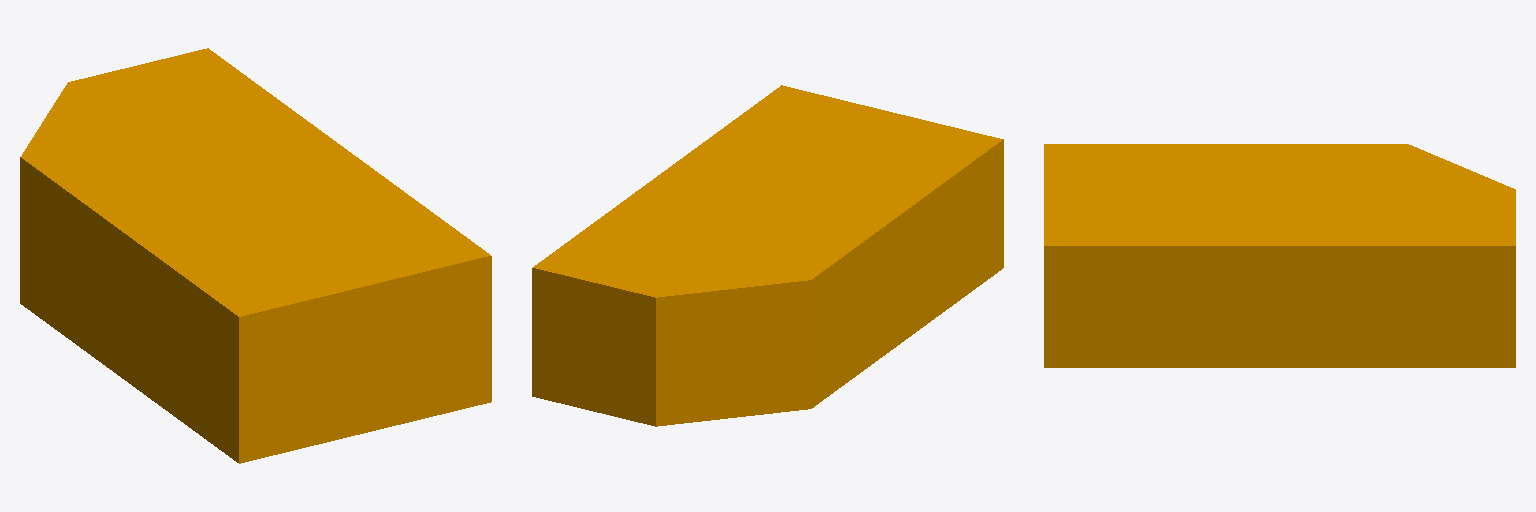
URDF robot description (oil_bottle_simple.off):
<?xml version="1.0"?>
<robot name="oil_bottle_simple.off">
	<link name="oil_bottle_simple.off">
		<inertial>
			<!--origin xyz="0 0 0" rpy="0 0 0" /-->
			<mass value="0.5" />
			<!--inertia ixx="0.000360" ixy="0" ixz="0" iyy="0.0000615" iyz="0" izz="0.00036" /-->
		</inertial>
    		<visual>
	      		<!--origin rpy="0 0 0" xyz="0 0 0"/-->
      			<geometry>
        			<mesh filename="oil_bottle_simple.off.obj"/>
      			</geometry>
         	</visual>
    		<collision>
      			<!--origin rpy="0 0 0" xyz="0 0 0"/-->
      			<geometry>
        			<mesh filename="oil_bottle_simple.off.obj"/>
      			</geometry>
    		</collision>
	</link>
</robot>

--- Render facts (derived) ---
3 views of the same robot in one strip: view 1: azimuth 30°, elevation 25°; view 2: azimuth 150°, elevation 25°; view 3: azimuth 270°, elevation 25° (orthographic).
Robot: oil_bottle_simple.off — 1 links, 0 joints (none); root link oil_bottle_simple.off; default pose: all joints at 0.
Links seen in each view (by area): view 1: oil_bottle_simple.off; view 2: oil_bottle_simple.off; view 3: oil_bottle_simple.off.
Boxes of the visible links, left/top/right/bottom form: oil_bottle_simple.off: left=20, top=48, right=491, bottom=463; oil_bottle_simple.off: left=532, top=85, right=1003, bottom=426; oil_bottle_simple.off: left=1044, top=144, right=1515, bottom=367.
Bounding box of the posed robot: 90 × 175 × 50 m (x, y, z).
1 mesh visuals loaded from 1 distinct referenced files (1 OBJ).